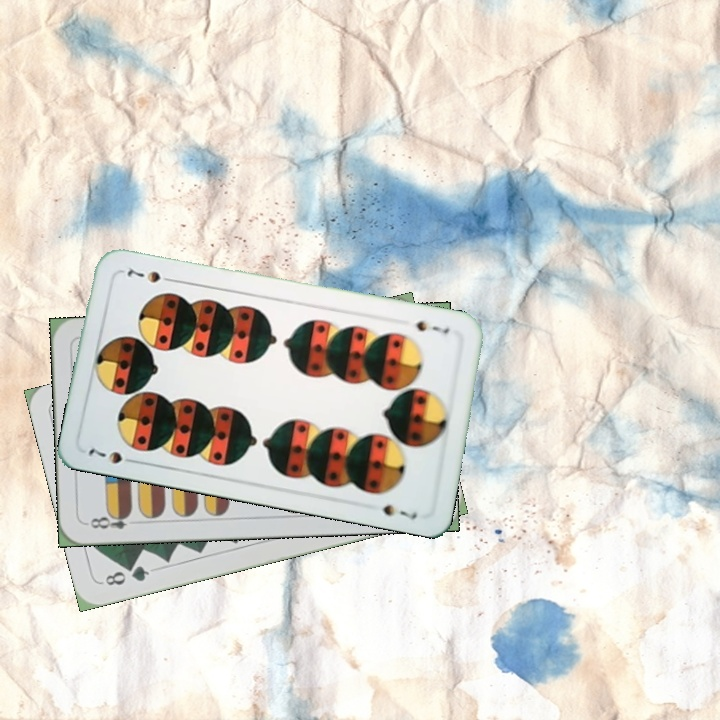E8: (83, 508, 134, 532)
G8: (98, 561, 152, 588)
S7: (84, 444, 141, 467), (412, 316, 452, 336)
